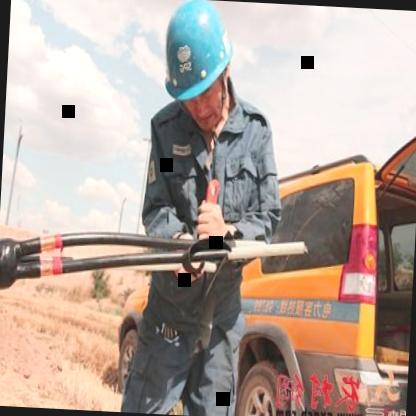helmet: (145, 0, 240, 142)
